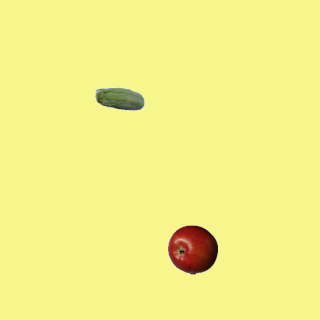Apple Braeburn: (167, 224, 217, 274)
Corn Husk: (94, 75, 144, 125)
